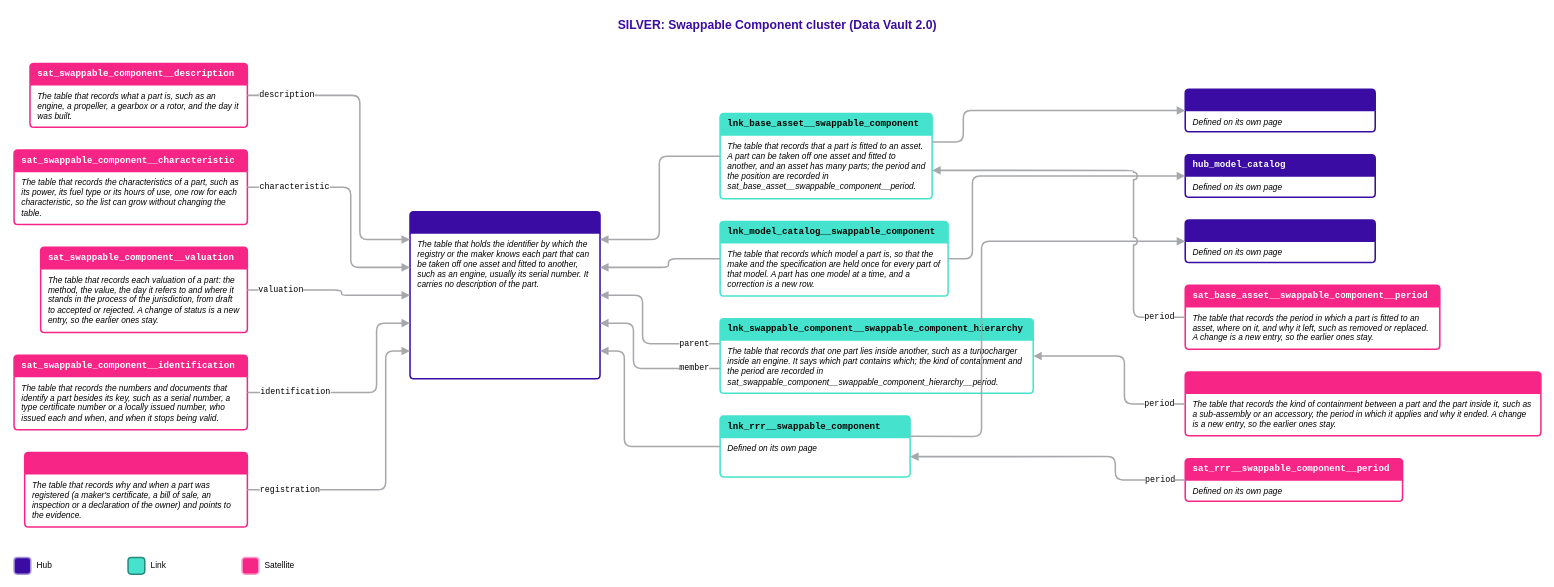
This 1554x587 diagram has some shape labels left out. The shapes that lost their labels are listed below. From the top down, each one's box as (x1, y1, x2, y2) in pixels, then its label:
(1184, 88, 1376, 132): hub_base_asset
(1184, 219, 1376, 263): hub_rrr
(409, 211, 600, 379): hub_swappable_component
(1184, 371, 1541, 436): sat_swappable_component__swappable_component_hierarchy__period
(24, 451, 248, 527): sat_swappable_component__registration
